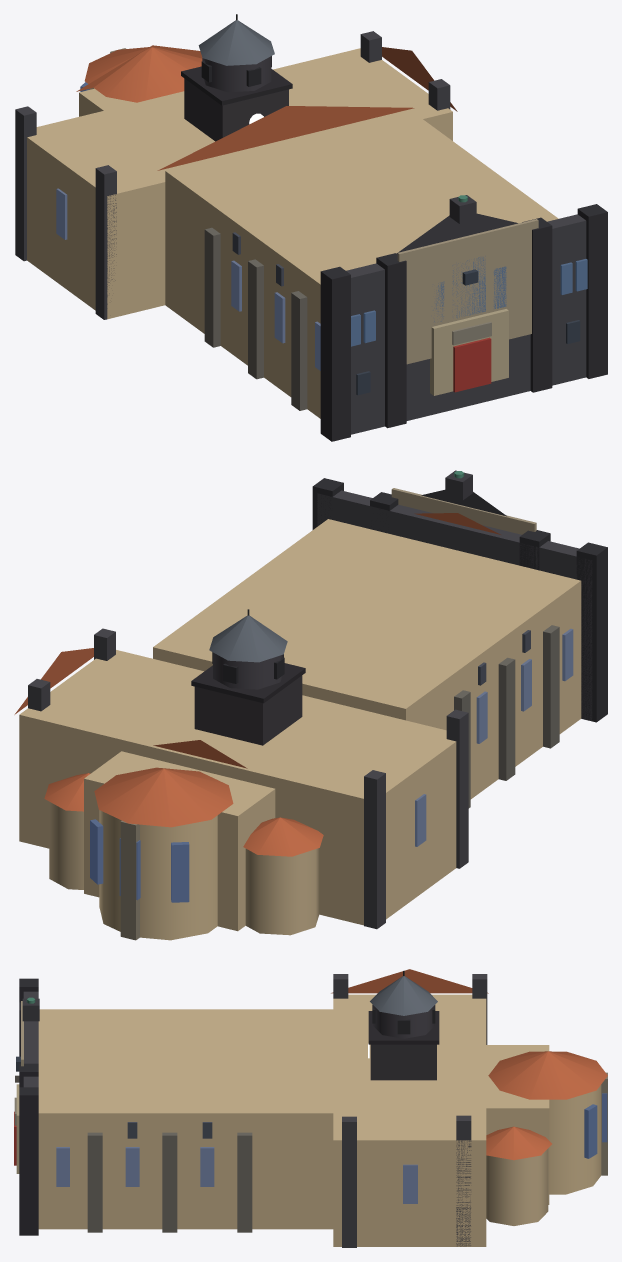
Rendered from eglise-saint-joseph.glb.
3 renders of one model, top to bottom at view 1: azimuth 30°, elevation 25°; view 2: azimuth 150°, elevation 25°; view 3: azimuth 270°, elevation 25°, orthographic. The views are drawn at different scales.
Parts seen in each view (by area): view 1: Église Saint-Joseph de Clermont-Ferrand; view 2: Église Saint-Joseph de Clermont-Ferrand; view 3: Église Saint-Joseph de Clermont-Ferrand.
Part boxes in pixels (x1,y1,x2,y2): Église Saint-Joseph de Clermont-Ferrand: [15, 14, 607, 441]; Église Saint-Joseph de Clermont-Ferrand: [14, 470, 607, 940]; Église Saint-Joseph de Clermont-Ferrand: [14, 969, 607, 1247].
Bounding box in the file's own units: 32.9 × 20.85 × 55.6.
